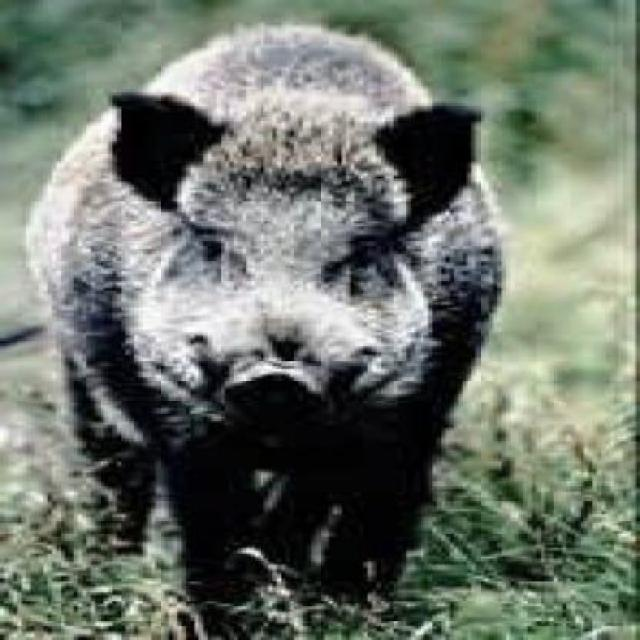Boar: (1, 24, 513, 640)
